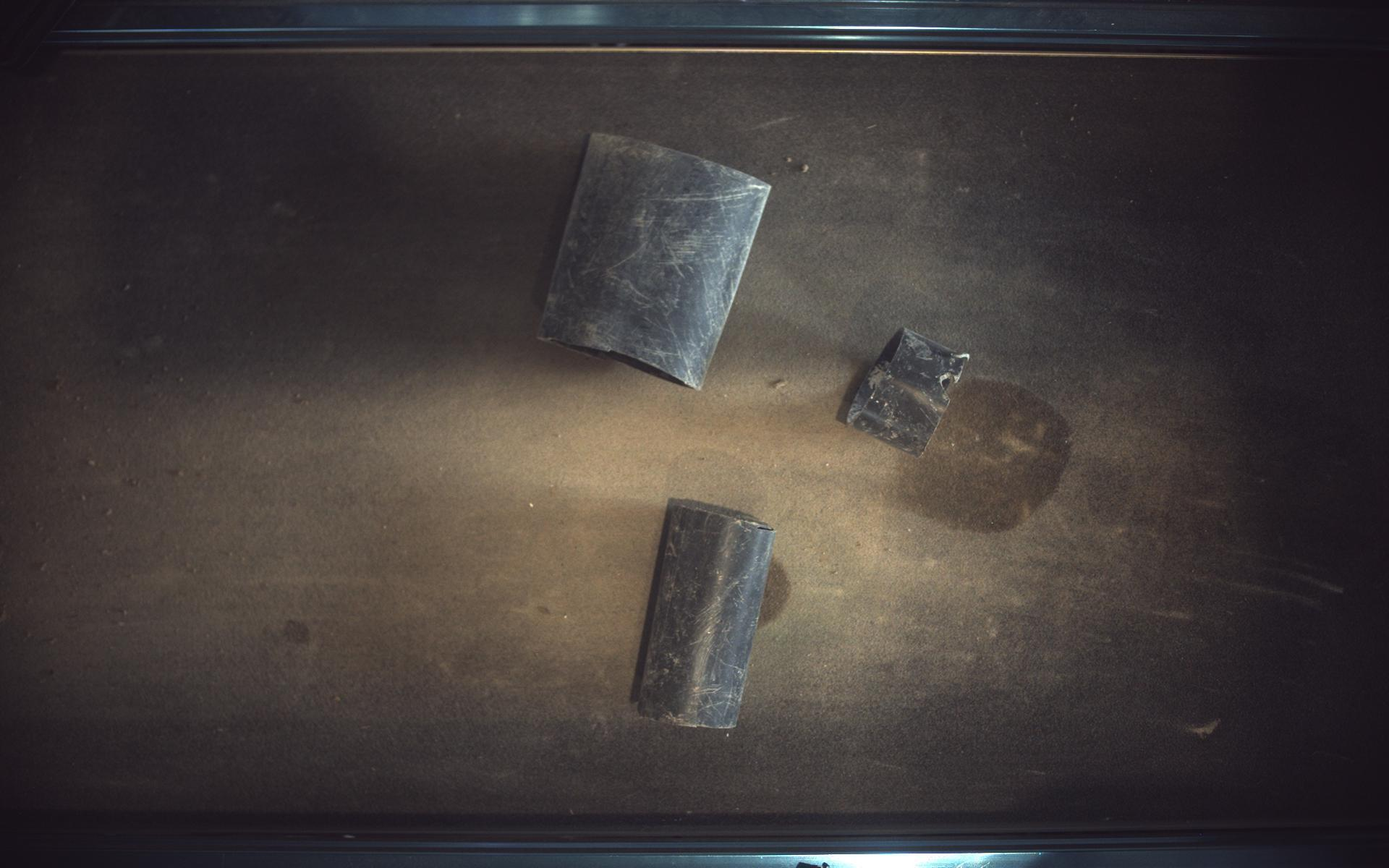pipes: (539, 132, 772, 388), (632, 498, 776, 730), (848, 328, 972, 456)
